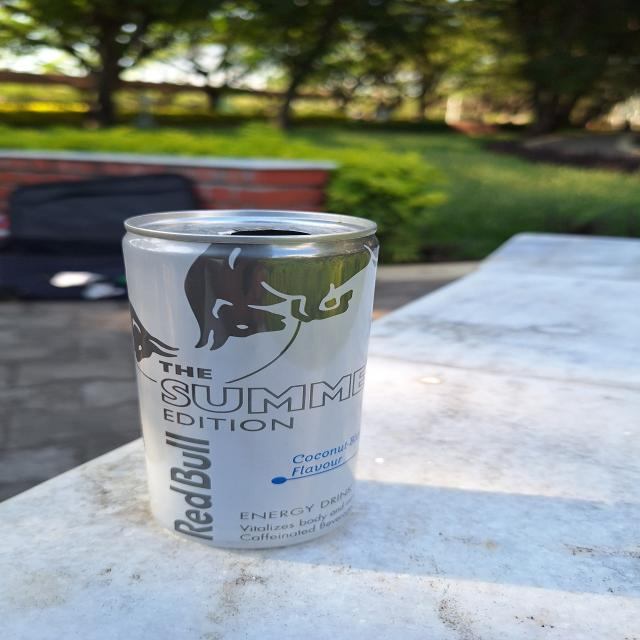Redbull Summer Edition: (112, 209, 380, 554)
